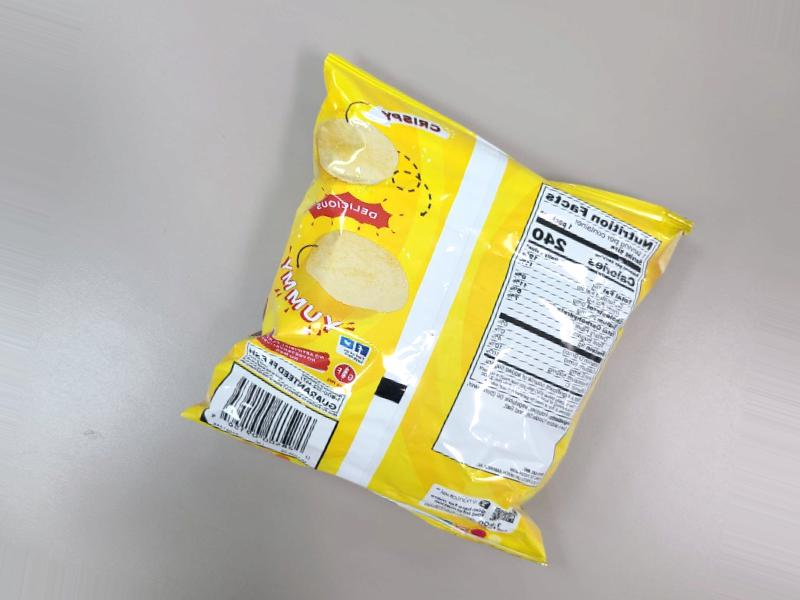lays: (316, 0, 697, 600)
